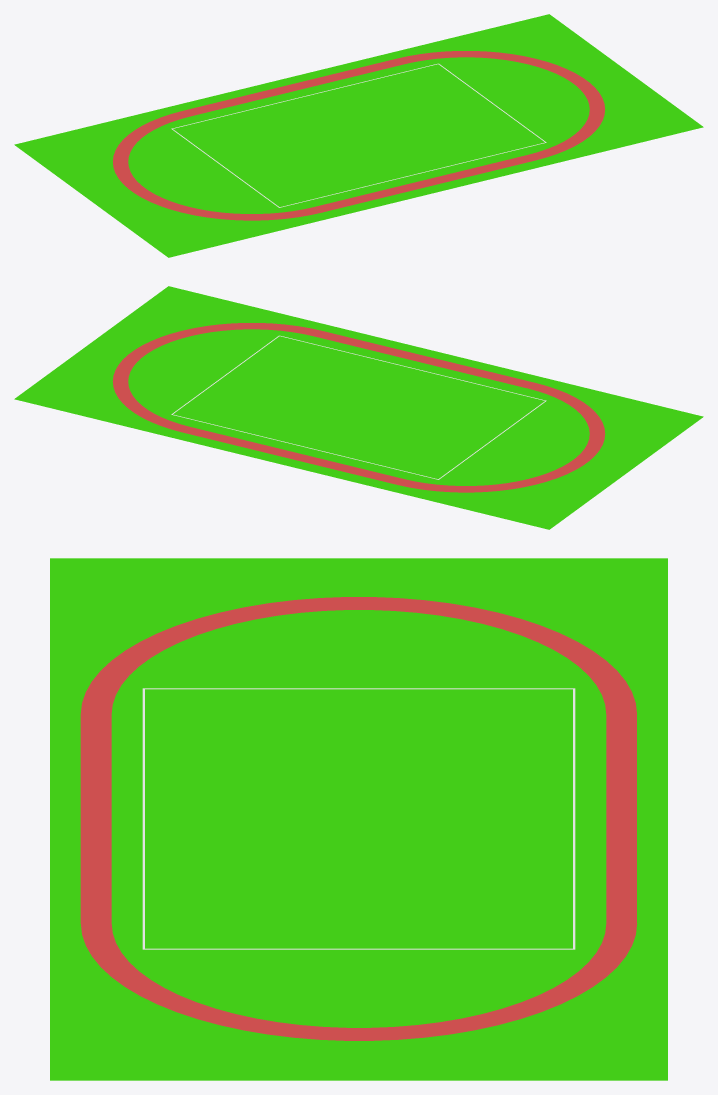
The model's file is terrain_3.dae.
The picture shows the model from 3 angles, top to bottom: view 1: azimuth 30°, elevation 25°; view 2: azimuth 150°, elevation 25°; view 3: azimuth 270°, elevation 25°; orthographic projection. The views are drawn at different scales.
Parts seen in each view (by area): view 1: Terrain, Piste, Terrain_Rugby.001; view 2: Terrain, Piste, Terrain_Rugby.001; view 3: Terrain, Piste, Terrain_Rugby, Terrain_Rugby.001.
Boxes of the visible parts, x1,y1,x2,y2 form: Terrain: (14, 14, 703, 257); Piste: (113, 51, 605, 220); Terrain_Rugby.001: (172, 63, 545, 207); Terrain: (14, 286, 703, 529); Piste: (112, 323, 605, 492); Terrain_Rugby.001: (172, 335, 545, 479); Terrain: (50, 558, 667, 1080); Piste: (80, 597, 637, 1040); Terrain_Rugby: (143, 688, 574, 949); Terrain_Rugby.001: (142, 688, 575, 949).
Bounding box in the file's own units: 200 × 100 × 0.1.
